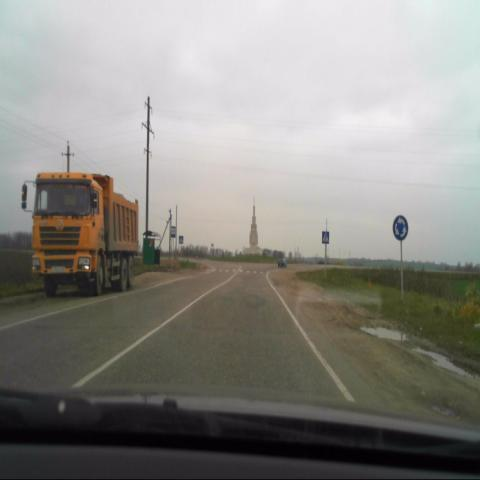4_3: (392, 214, 408, 243)
